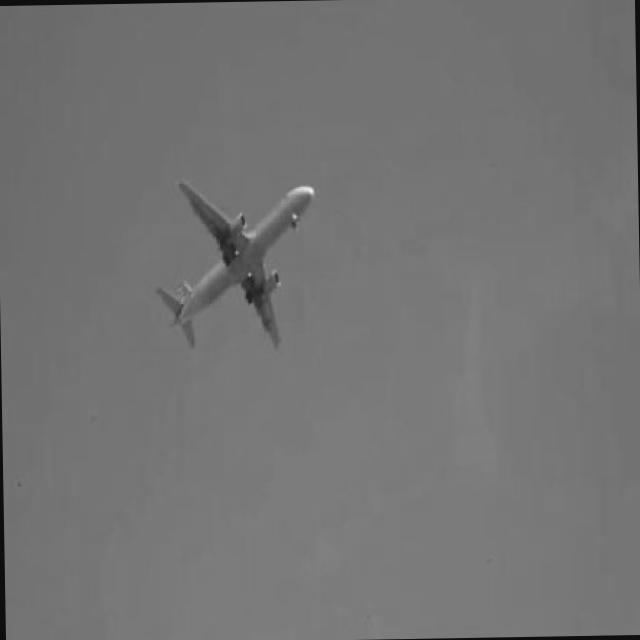aeroplane: (154, 180, 317, 352)
